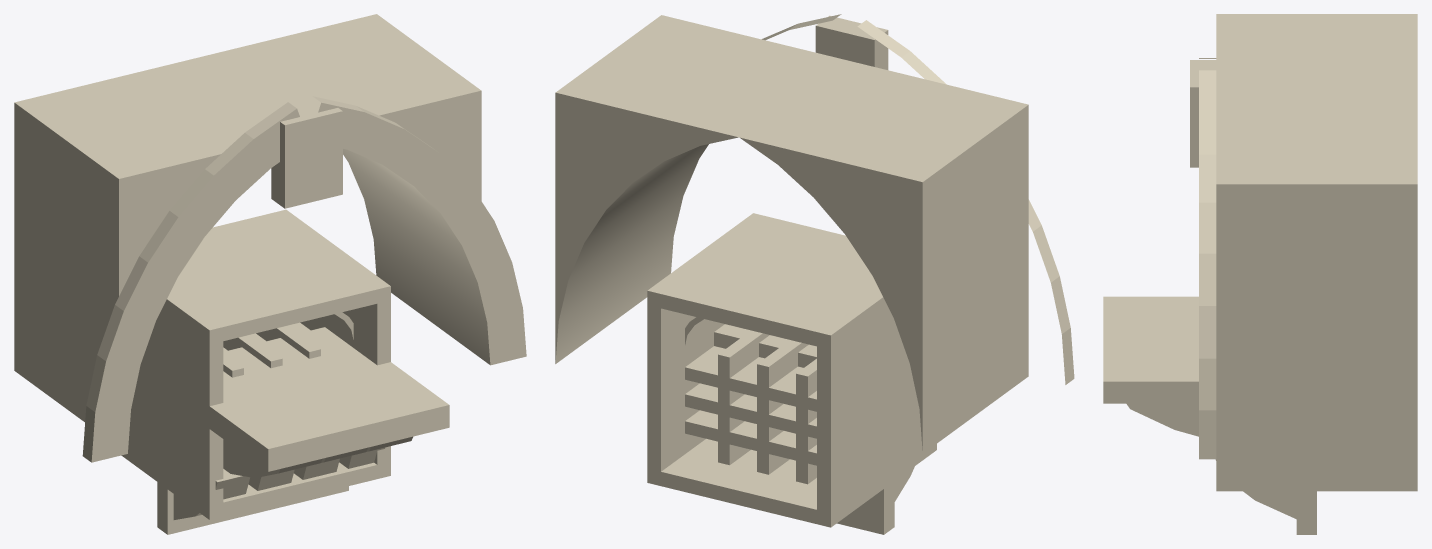
File: citadel.glb
The picture shows the model from 3 angles, left to right: view 1: azimuth 30°, elevation 25°; view 2: azimuth 150°, elevation 25°; view 3: azimuth 270°, elevation 25°; orthographic projection. The views are drawn at different scales.
Visible parts, largest first — view 1: arch, screen, corbel; view 2: arch, screen, corbel; view 3: arch, corbel, screen.
Part boxes in pixels (bbox=[...]): arch: bbox=[14, 14, 526, 462]; screen: bbox=[121, 209, 390, 519]; corbel: bbox=[157, 327, 449, 534]; arch: bbox=[555, 14, 1074, 453]; screen: bbox=[647, 213, 936, 527]; corbel: bbox=[714, 324, 914, 534]; arch: bbox=[1190, 14, 1417, 459]; corbel: bbox=[1103, 296, 1316, 534]; screen: bbox=[1216, 442, 1417, 491].
Bounding box in the file's own units: 2.4 × 2.34 × 1.56.
